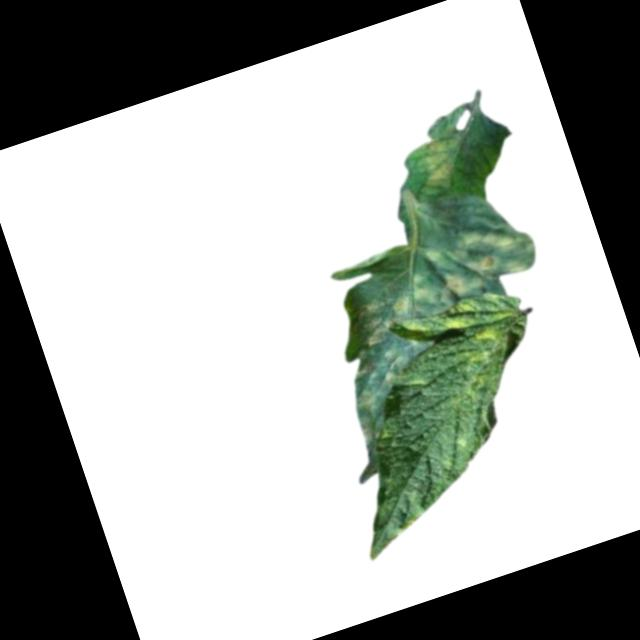Leaf_Mold: (341, 215, 551, 347), (439, 293, 544, 398), (414, 132, 476, 193)
